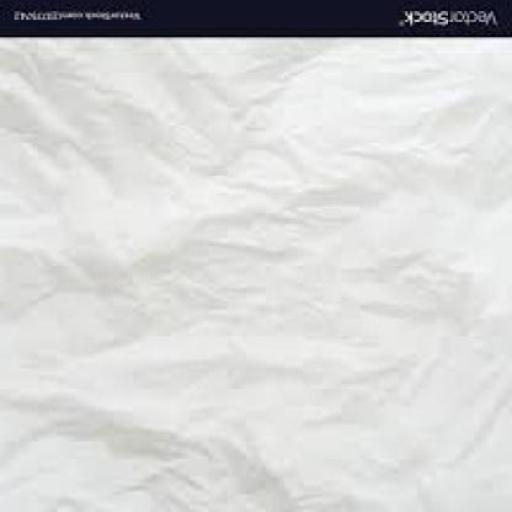paper: (2, 39, 511, 511)
